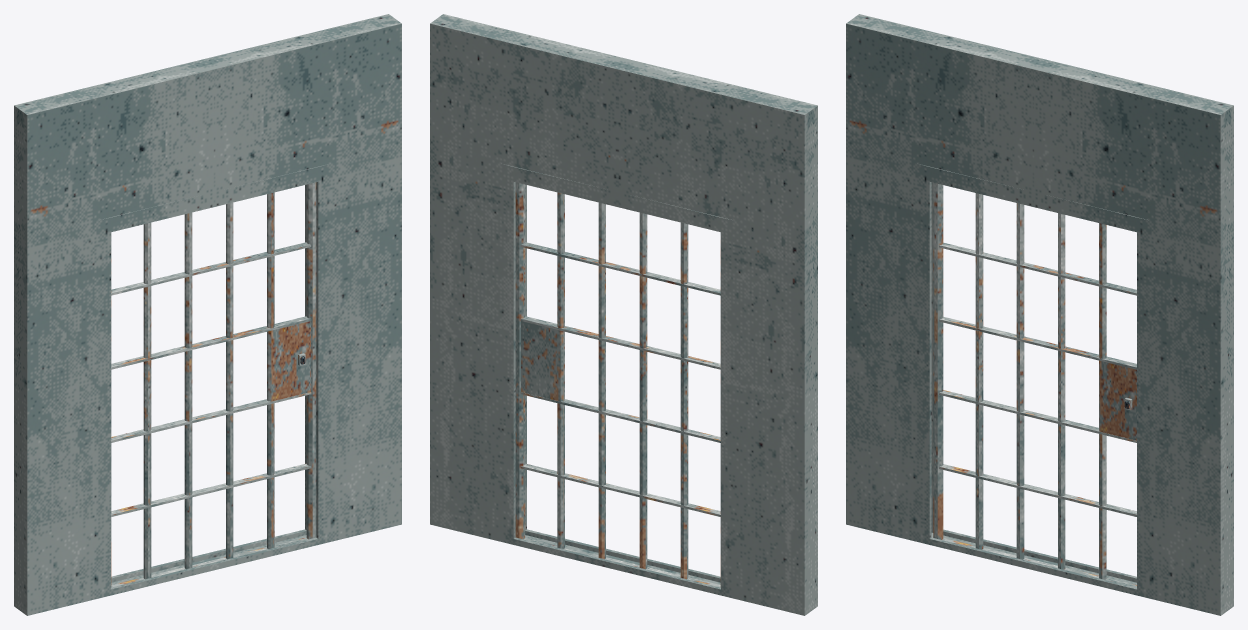
File: button_door_alt.glb
3 renders of one model, left to right at view 1: azimuth 30°, elevation 25°; view 2: azimuth 150°, elevation 25°; view 3: azimuth 330°, elevation 25°, orthographic.
Parts seen in each view (by area): view 1: Cube, cell_wall.001; view 2: Cube, cell_wall.001; view 3: Cube, cell_wall.001.
Boxes of the visible parts, x1,y1,x2,y2 form: Cube: (14, 14, 401, 615); cell_wall.001: (111, 182, 316, 587); Cube: (430, 14, 817, 615); cell_wall.001: (515, 182, 720, 587); Cube: (846, 14, 1233, 615); cell_wall.001: (933, 182, 1136, 587).
Size of the model in its own units: 3.29 by 4.2 by 0.2.
4 materials, 4 textured.
